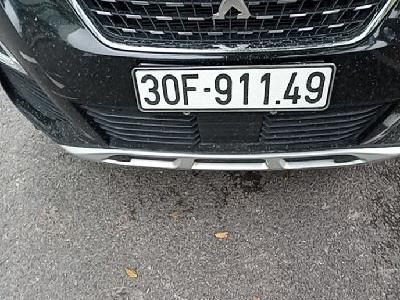lisence: (130, 63, 336, 114)
